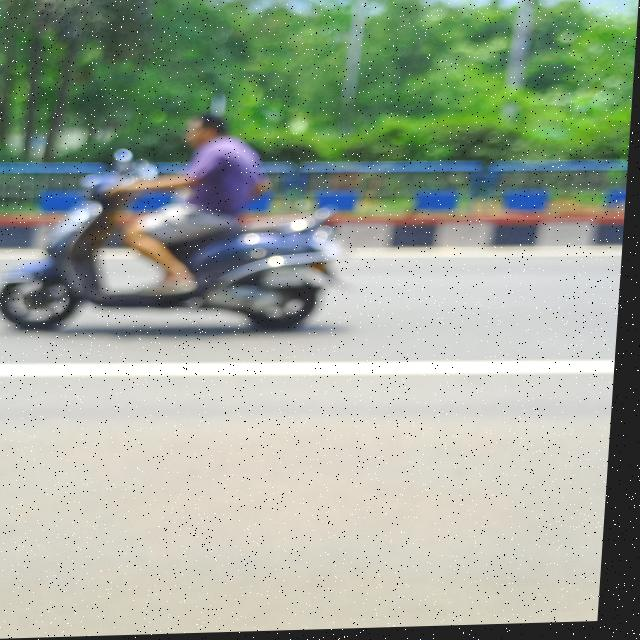bike: (0, 147, 348, 334)
